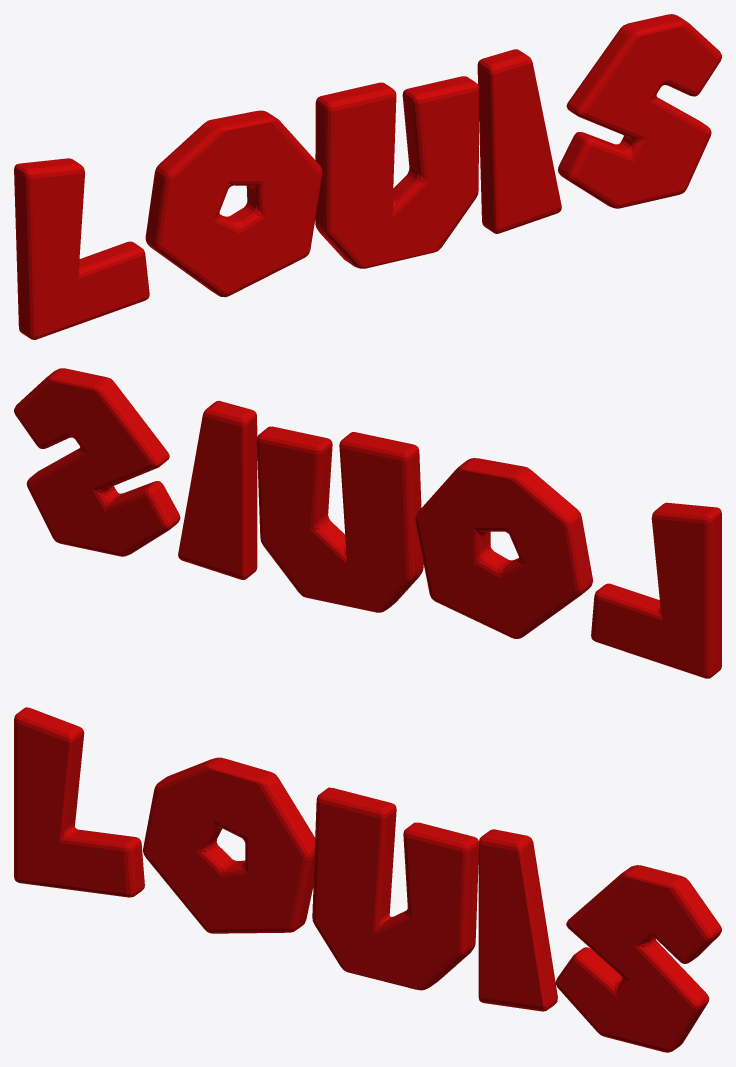
File: Louis.obj
3 renders of one model, top to bottom at view 1: azimuth 30°, elevation 25°; view 2: azimuth 150°, elevation 25°; view 3: azimuth 330°, elevation 25°, orthographic.
Visible parts, largest first — view 1: Texte; view 2: Texte; view 3: Texte.
Boxes of the visible parts, x1,y1,x2,y2 form: Texte: (14,14,721,339); Texte: (14,368,721,678); Texte: (14,707,721,1052).
Size of the model in its own units: 4.35 by 1.11 by 0.2455.
